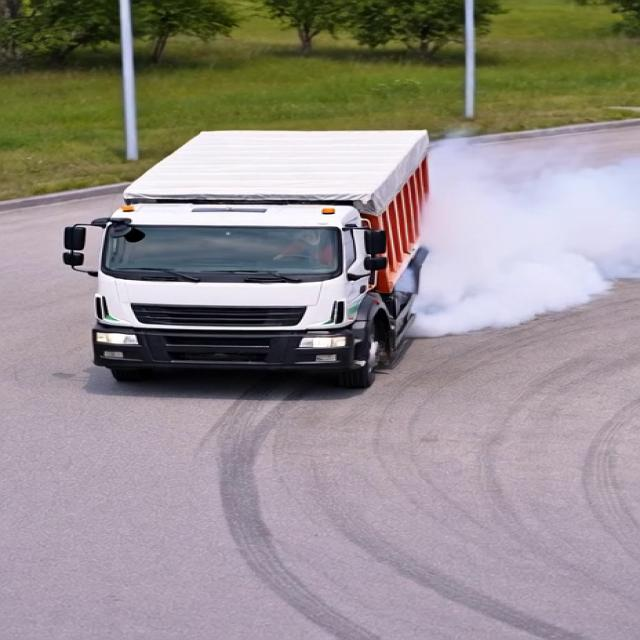Box: (114, 120, 430, 220)
Truck: (49, 95, 474, 382)
